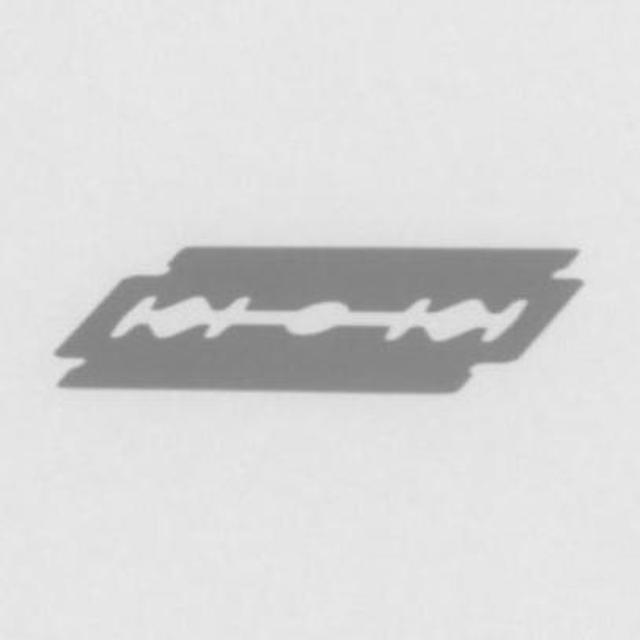razor: (51, 236, 593, 404)
